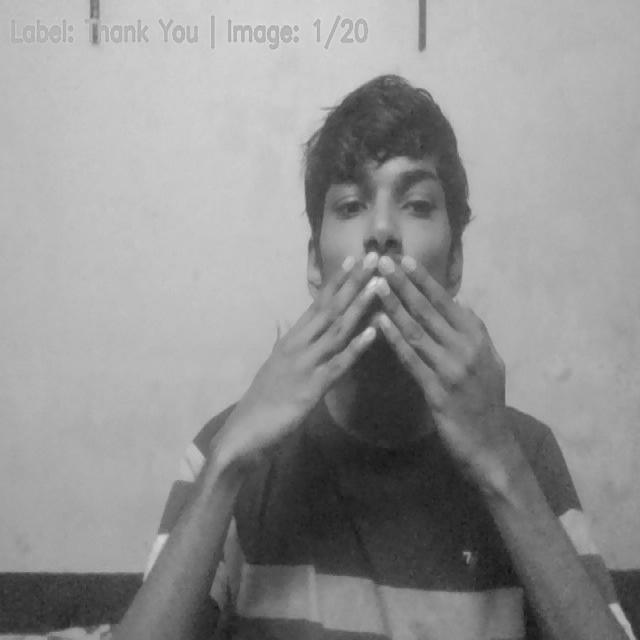Thank You: (224, 248, 515, 484)
